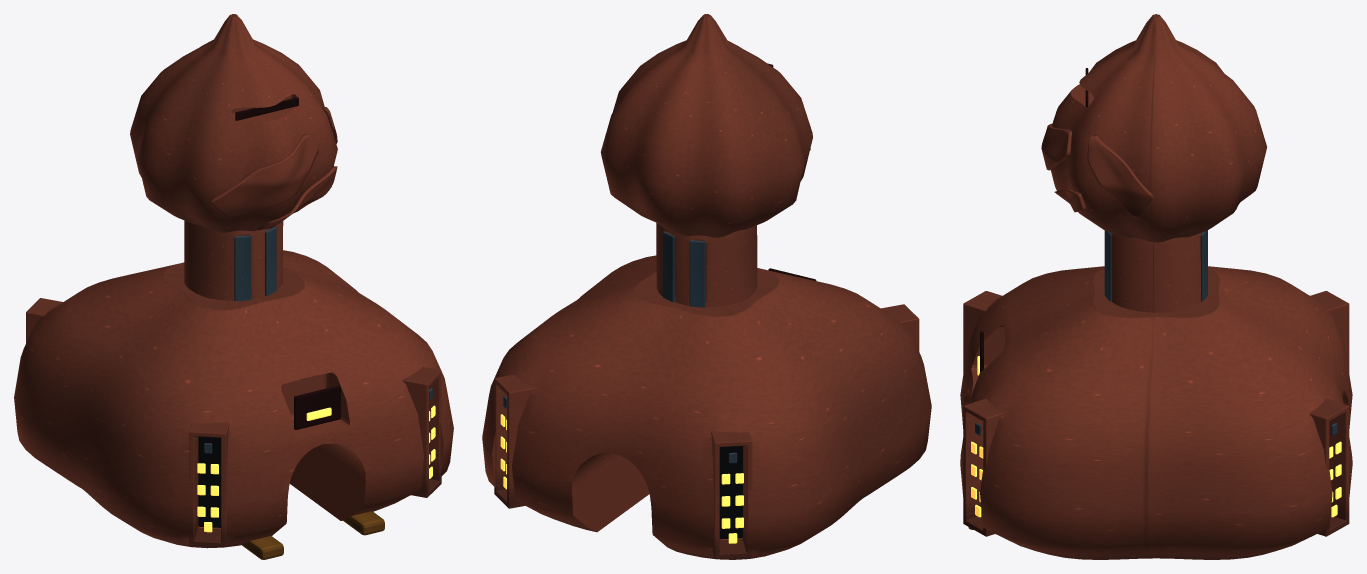
The picture shows the model from 3 angles, left to right: view 1: azimuth 30°, elevation 25°; view 2: azimuth 150°, elevation 25°; view 3: azimuth 270°, elevation 25°; orthographic projection. The views are drawn at different scales.
Parts seen in each view (by area): view 1: AC07 curved lower quarters, AC07 onion upper chamber, AC07 consolidated window rims, AC07 narrow neck, AC07 upper flowing casting, AC07 consolidated window backs, AC07 central dark red panel, AC07 blue neck inset 0, AC07 consolidated window panes, AC07 lower flowing casting, AC07 blue neck inset 1, AC07 brass entrance foot 1 (+2 smaller); view 2: AC07 curved lower quarters, AC07 onion upper chamber, AC07 consolidated window rims, AC07 narrow neck, AC07 consolidated window backs, AC07 consolidated window panes, AC07 blue neck inset 3, AC07 blue neck inset 2; view 3: AC07 curved lower quarters, AC07 onion upper chamber, AC07 consolidated window rims, AC07 narrow neck, AC07 side flowing casting, AC07 upper flowing casting, AC07 consolidated window panes, AC07 blue neck inset 1, AC07 blue neck inset 2.
Boxes of the visible parts, <box> form: AC07 curved lower quarters: <box>14,250,453,548</box>; AC07 onion upper chamber: <box>130,14,337,232</box>; AC07 consolidated window rims: <box>26,298,441,546</box>; AC07 narrow neck: <box>184,220,283,300</box>; AC07 upper flowing casting: <box>209,134,318,218</box>; AC07 consolidated window backs: <box>198,436,220,527</box>; AC07 central dark red panel: <box>294,385,340,429</box>; AC07 blue neck inset 0: <box>234,235,250,301</box>; AC07 consolidated window panes: <box>197,388,435,532</box>; AC07 lower flowing casting: <box>255,166,337,230</box>; AC07 blue neck inset 1: <box>265,226,276,296</box>; AC07 brass entrance foot 1: <box>343,511,384,535</box>; AC07 curved lower quarters: <box>482,255,931,559</box>; AC07 onion upper chamber: <box>600,14,812,237</box>; AC07 consolidated window rims: <box>494,304,919,558</box>; AC07 narrow neck: <box>656,223,757,307</box>; AC07 consolidated window backs: <box>719,446,742,539</box>; AC07 consolidated window panes: <box>500,396,743,543</box>; AC07 blue neck inset 3: <box>689,240,705,307</box>; AC07 blue neck inset 2: <box>662,231,674,302</box>; AC07 curved lower quarters: <box>960,266,1352,559</box>; AC07 onion upper chamber: <box>1051,14,1266,242</box>; AC07 consolidated window rims: <box>963,291,1349,536</box>; AC07 narrow neck: <box>1111,232,1201,312</box>; AC07 side flowing casting: <box>1087,134,1153,218</box>; AC07 upper flowing casting: <box>1041,123,1071,170</box>; AC07 consolidated window panes: <box>971,423,1341,517</box>; AC07 blue neck inset 1: <box>1104,230,1111,301</box>; AC07 blue neck inset 2: <box>1200,230,1207,301</box>.
Bounding box in the file's own units: 2.52 × 3.43 × 2.52.
6 materials, 5 textured.
